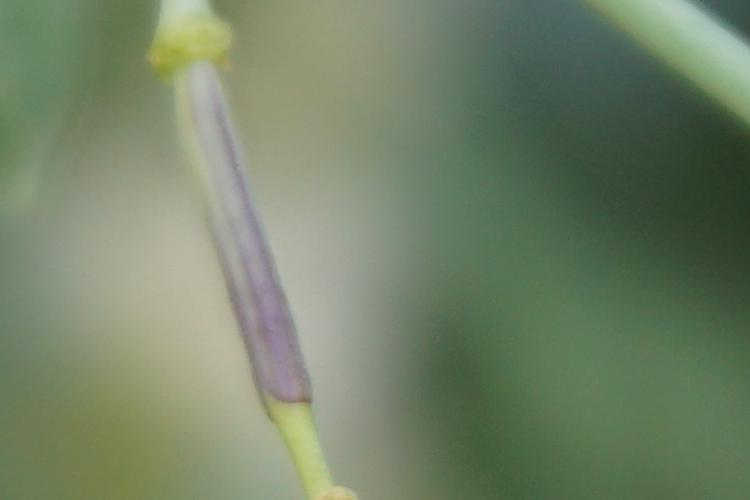pod: (128, 28, 361, 500)
